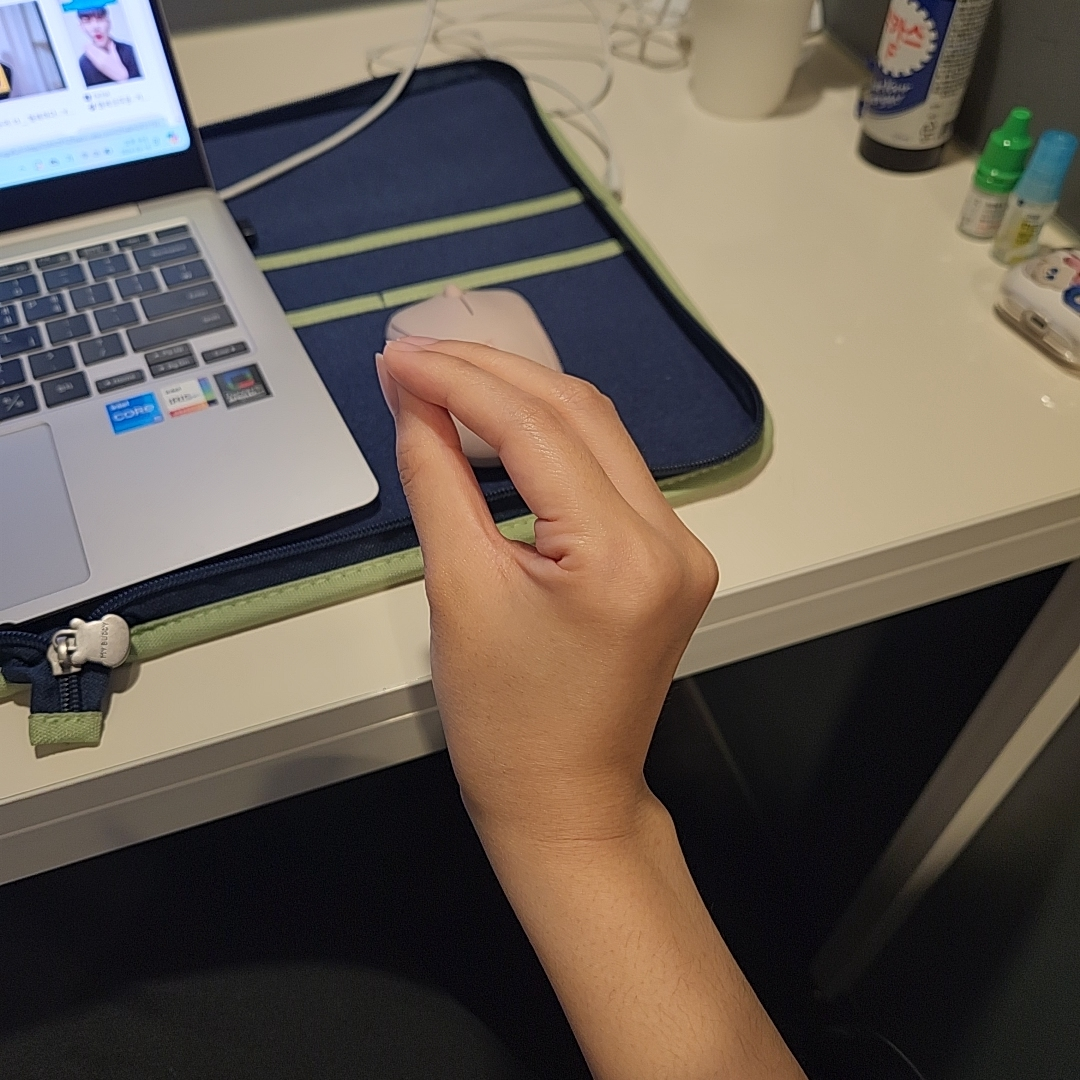happy: (375, 338, 722, 802)
